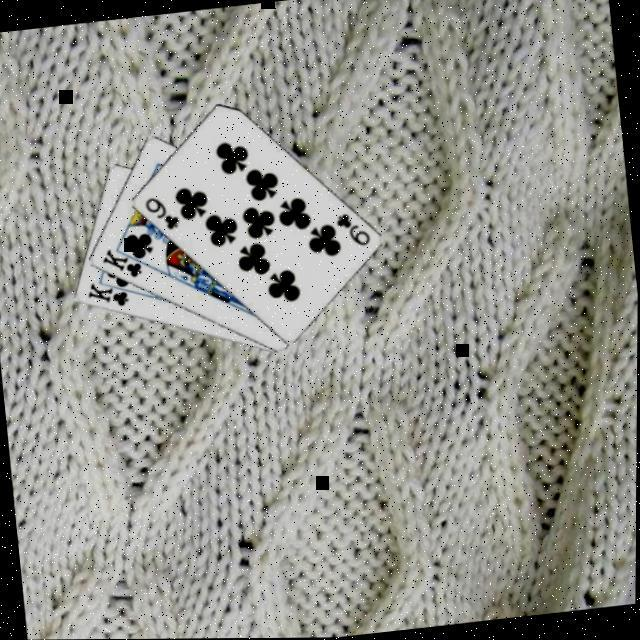9C: (143, 192, 185, 236), (333, 210, 375, 253)
KC: (100, 243, 156, 284), (86, 276, 142, 315)
